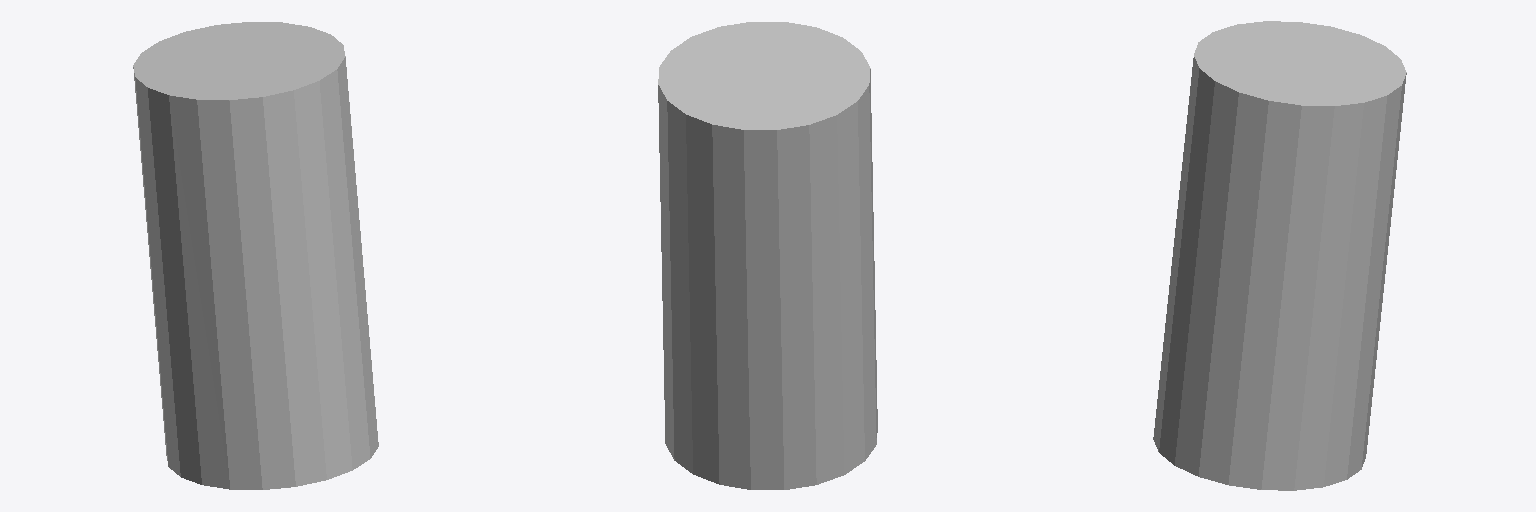
Rendered from 3distph_skin.obj.
The picture shows the model from 3 angles: view 1: azimuth 30°, elevation 25°; view 2: azimuth 150°, elevation 25°; view 3: azimuth 270°, elevation 25°; orthographic projection.
Bounding box in the file's own units: 0.0091 × 0.0174 × 0.0101.